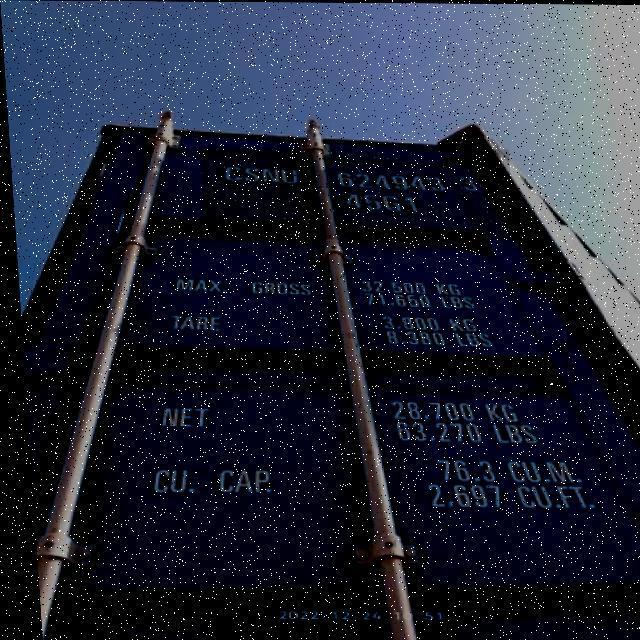container_number_h: (198, 147, 511, 240)
